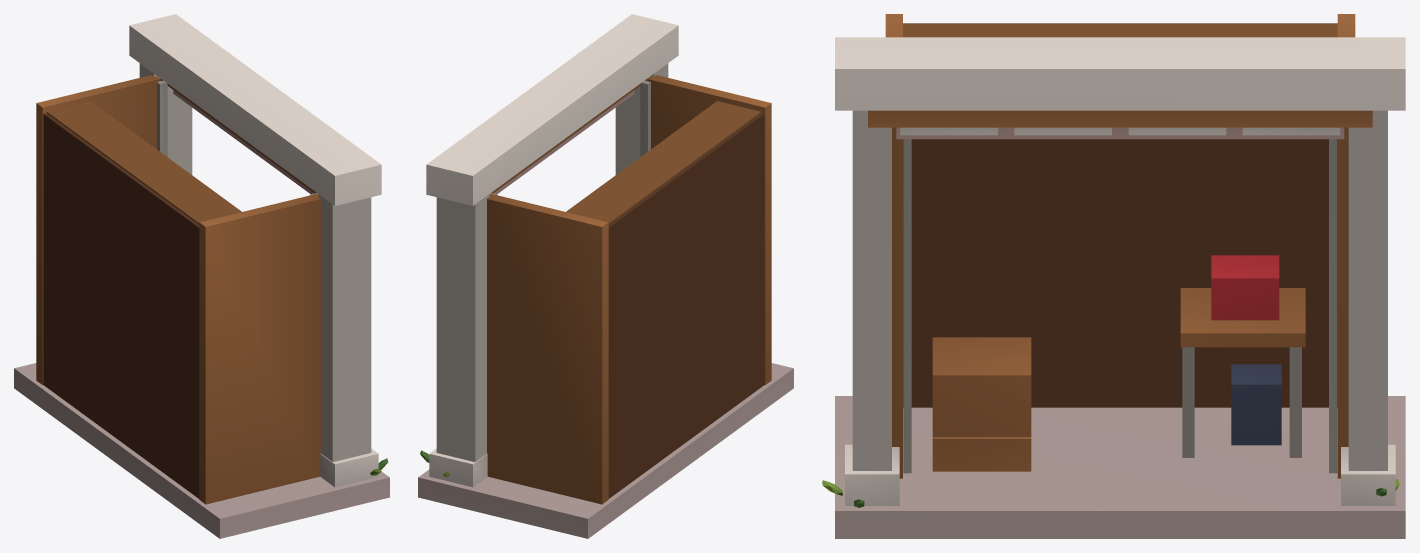
File: house.garage.open.lod2.glb
3 views of the same model, side by side, from view 1: azimuth 30°, elevation 25°; view 2: azimuth 150°, elevation 25°; view 3: azimuth 270°, elevation 25° (orthographic). The views are drawn at different scales.
Size of the model in its own units: 1.29 by 2.34 by 2.66.
